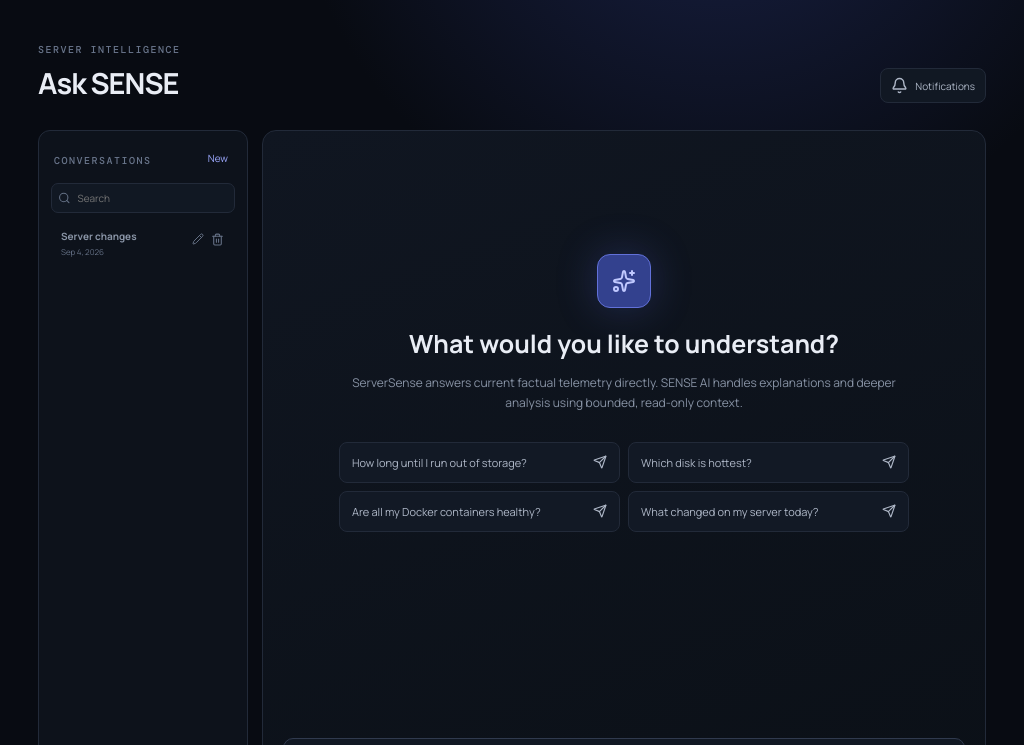
Test: SENSE requests › hides a superseded failure after its retry is accepted
What coordinates should you click on to do the following:
click the button "Server changes Sep 4, 2026"
I would click on:
 (143, 243)
Its box is [51,219,235,267].
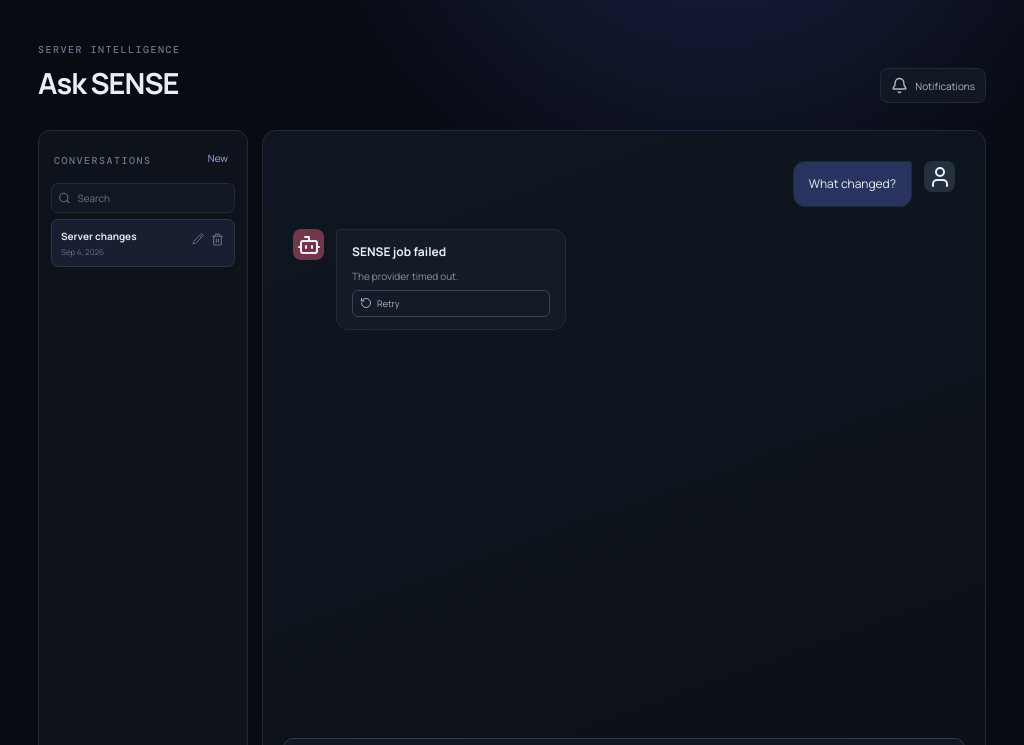
What coordinates should you click on to do the following:
click the button "Retry"
I would click on:
 (451, 303)
Its box is [352,290,550,317].
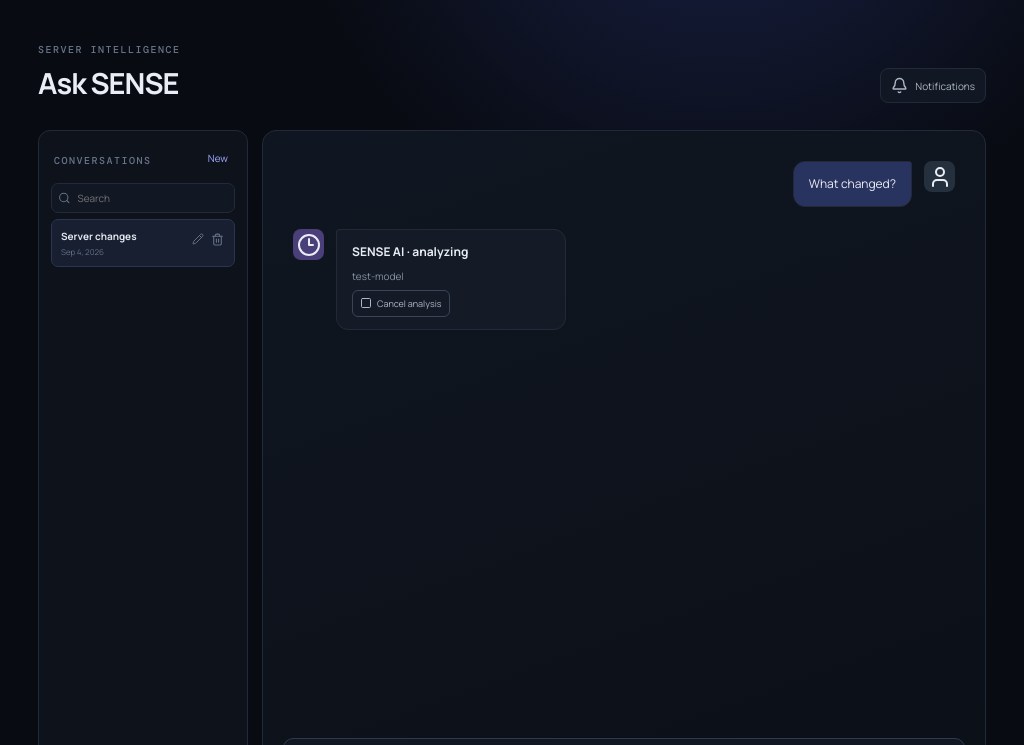
Now the text "SENSE AI · analyzing" is shown, box [352,243,468,260]
Now the text "The provider timed out." is gone
Now the button "Retry" is gone
